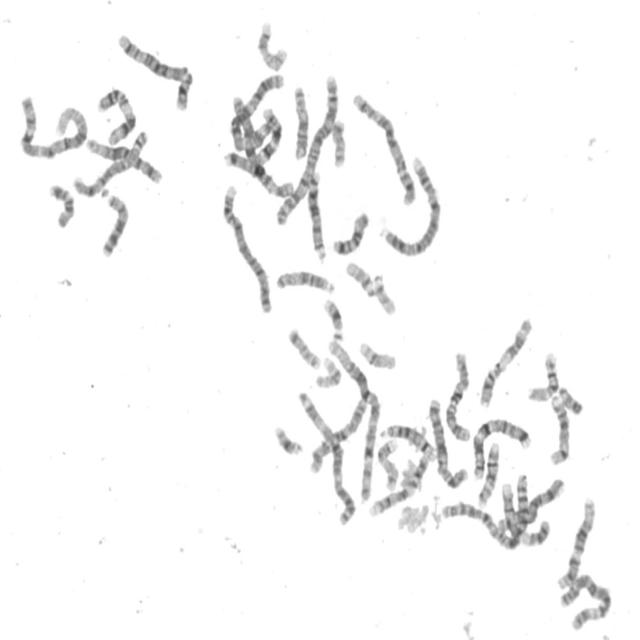A1: (322, 334, 382, 503), (15, 91, 90, 161)
A2: (272, 69, 342, 228), (440, 470, 534, 552)
A3: (294, 387, 358, 528), (227, 68, 286, 154)
B4: (218, 179, 274, 316), (376, 150, 444, 259)
B5: (349, 87, 418, 207), (114, 27, 196, 113)
C10: (307, 394, 371, 476), (442, 346, 473, 444)
C11: (475, 312, 535, 409), (94, 83, 139, 146)
C12: (554, 492, 598, 592), (83, 133, 164, 186)
C6: (368, 453, 431, 516), (556, 570, 614, 632)
C7: (470, 414, 534, 481), (230, 100, 282, 165)
C8: (70, 126, 151, 198), (497, 478, 567, 532)
C9: (496, 478, 550, 548), (219, 151, 295, 200)
D13: (303, 165, 329, 264), (98, 187, 130, 259)
D14: (377, 420, 438, 462), (546, 390, 572, 468)
D15: (272, 265, 337, 296), (290, 80, 311, 160)
E16: (525, 346, 561, 403), (474, 437, 502, 509)
E17: (253, 17, 290, 72), (374, 435, 401, 493)
E18: (329, 206, 371, 256), (46, 179, 76, 230)
F19: (355, 335, 398, 371), (313, 352, 343, 390)
F20: (284, 324, 323, 371), (329, 114, 348, 169)
G21: (270, 420, 306, 458), (320, 293, 346, 337)
G22: (343, 256, 377, 298), (370, 268, 398, 316)
X: (425, 394, 470, 490)
Y: (555, 381, 585, 416)
